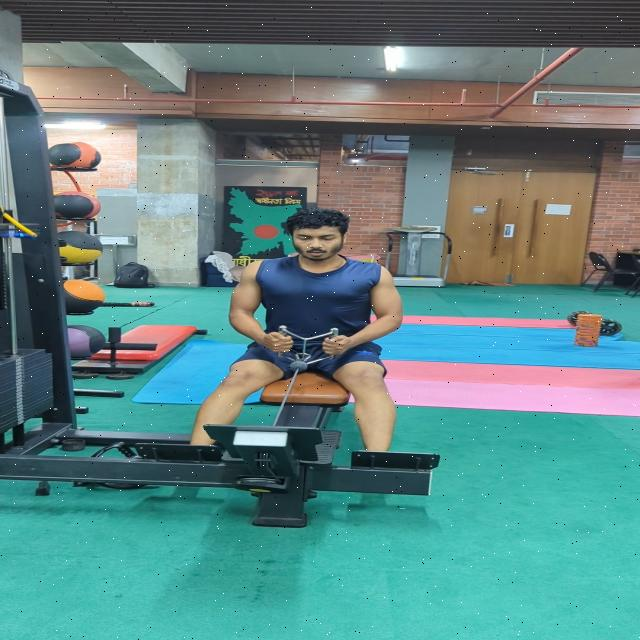Normal_RowingMachineExercise: (191, 207, 424, 466)
